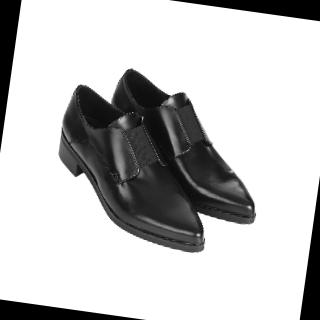loafers: (45, 55, 279, 266)
